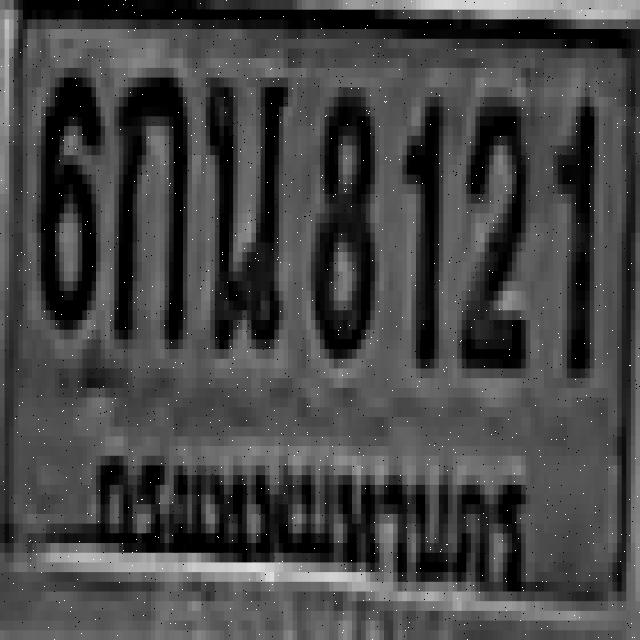1: (402, 87, 438, 359), (554, 92, 590, 364)
10GorGai: (110, 68, 183, 340)
2: (458, 87, 526, 359)
34NorNu: (202, 68, 284, 340)
6: (36, 68, 96, 320)
8: (310, 78, 370, 350)
Bangkok: (83, 420, 543, 606)
